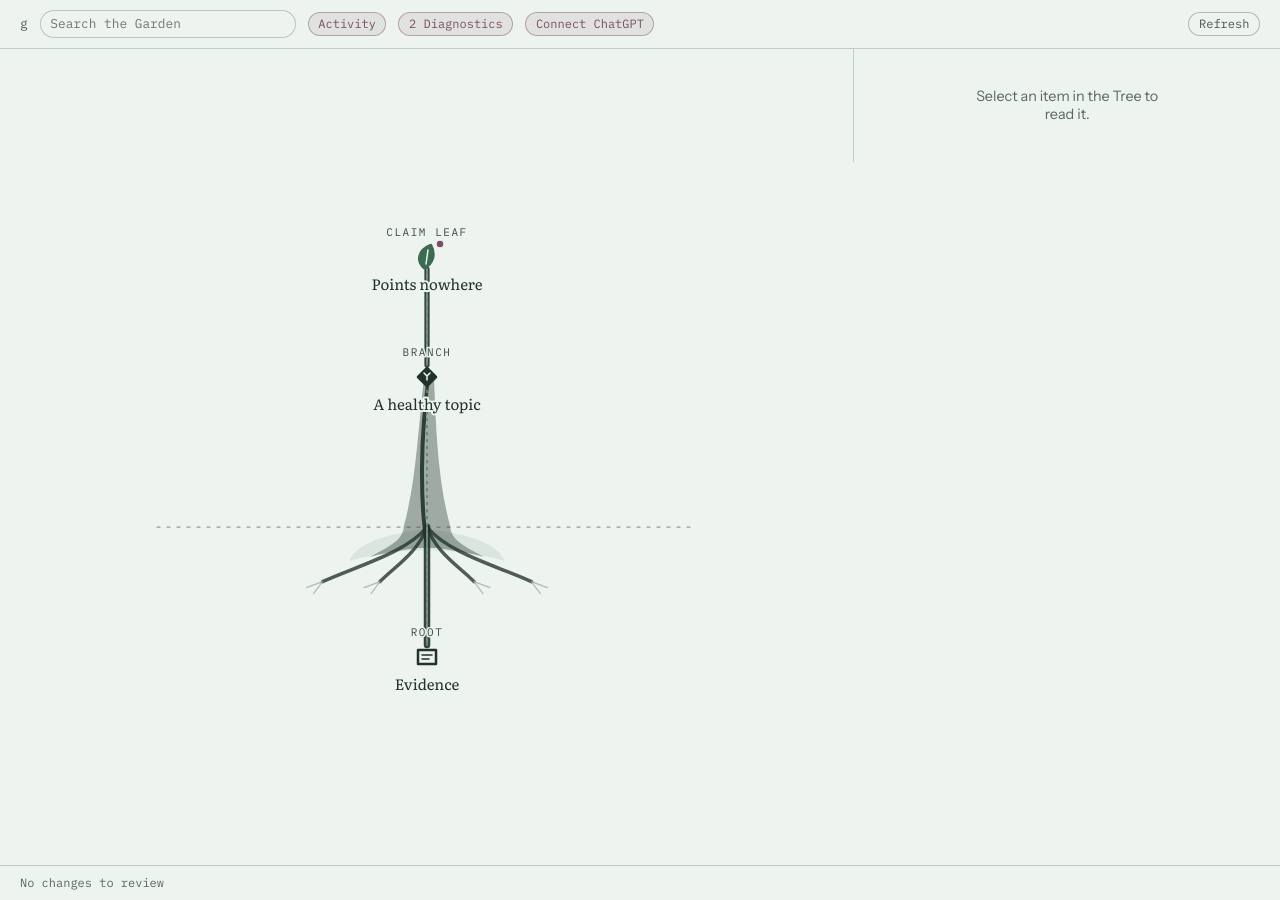
Scenario: Garden Diagnostics in the workspace › opens the list of Diagnostics
Click the button "2 Diagnostics". click: (456, 24)
box: [398, 12, 513, 36]
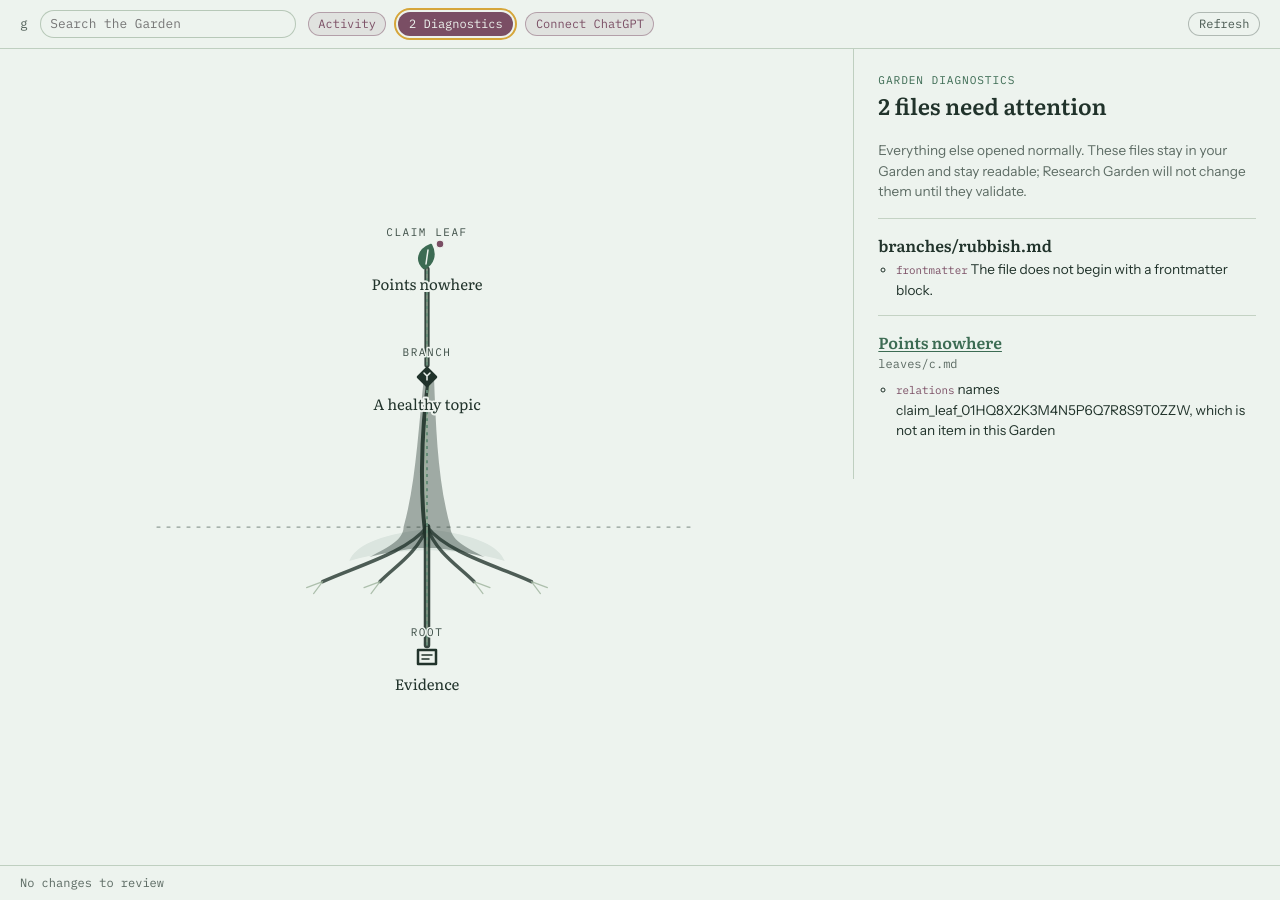
Check: the element "Garden Diagnostics" is shown, box [853, 49, 1279, 479]
